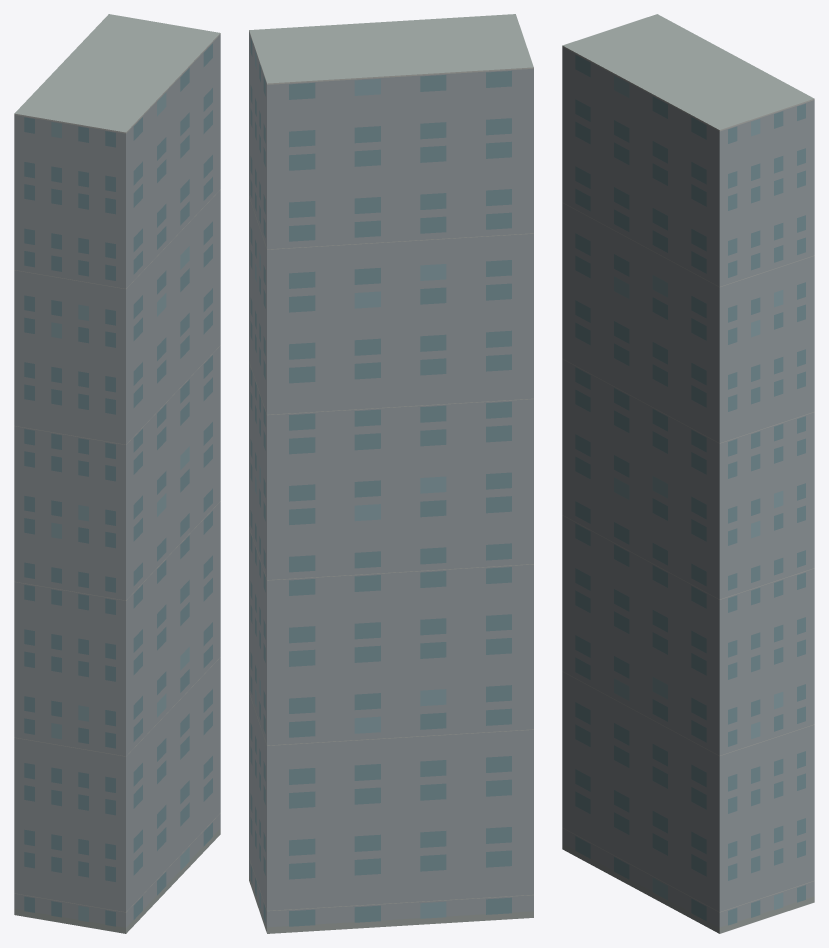
File: residential-d5d1c335-1b14-444a-b2ae-8ee4a9058463.glb
The picture shows the model from 3 angles, left to right: view 1: azimuth 30°, elevation 25°; view 2: azimuth 150°, elevation 25°; view 3: azimuth 270°, elevation 25°; orthographic projection. The views are drawn at different scales.
Visible parts, largest first — view 1: residential-d5d1c335-1b14-444a-b2ae-8ee4a9058463.tmp; view 2: residential-d5d1c335-1b14-444a-b2ae-8ee4a9058463.tmp; view 3: residential-d5d1c335-1b14-444a-b2ae-8ee4a9058463.tmp.
Boxes of the visible parts, box(x1,y1,x2,y2) form: residential-d5d1c335-1b14-444a-b2ae-8ee4a9058463.tmp: box(14, 14, 220, 933); residential-d5d1c335-1b14-444a-b2ae-8ee4a9058463.tmp: box(249, 14, 533, 933); residential-d5d1c335-1b14-444a-b2ae-8ee4a9058463.tmp: box(562, 14, 814, 933).
Size of the model in its own units: 47.75 by 154 by 43.82.
